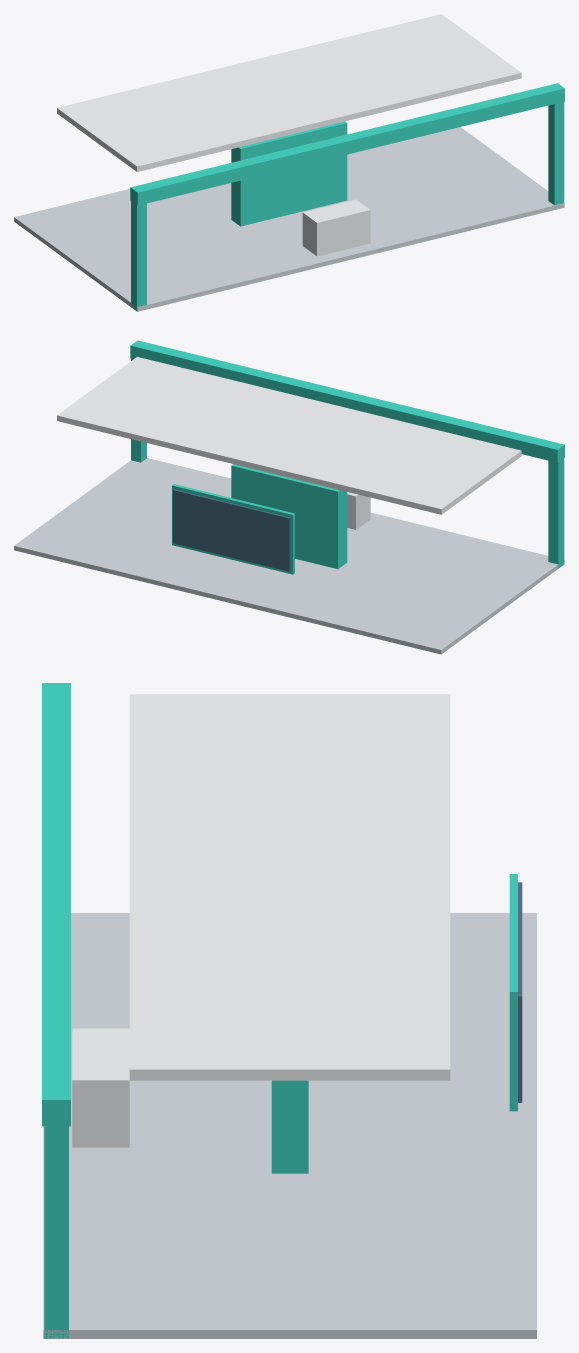
3 renders of one model, top to bottom at view 1: azimuth 30°, elevation 25°; view 2: azimuth 150°, elevation 25°; view 3: azimuth 270°, elevation 25°, orthographic. The views are drawn at different scales.
Parts seen in each view (by area): view 1: Exhibition Booth Concept; view 2: Exhibition Booth Concept; view 3: Exhibition Booth Concept.
Boxes of the visible parts, bbox=[...] form: Exhibition Booth Concept: bbox=[14, 14, 564, 311]; Exhibition Booth Concept: bbox=[14, 340, 564, 654]; Exhibition Booth Concept: bbox=[42, 683, 536, 1338].
Size of the model in its own units: 12 by 3.34 by 6.02.
